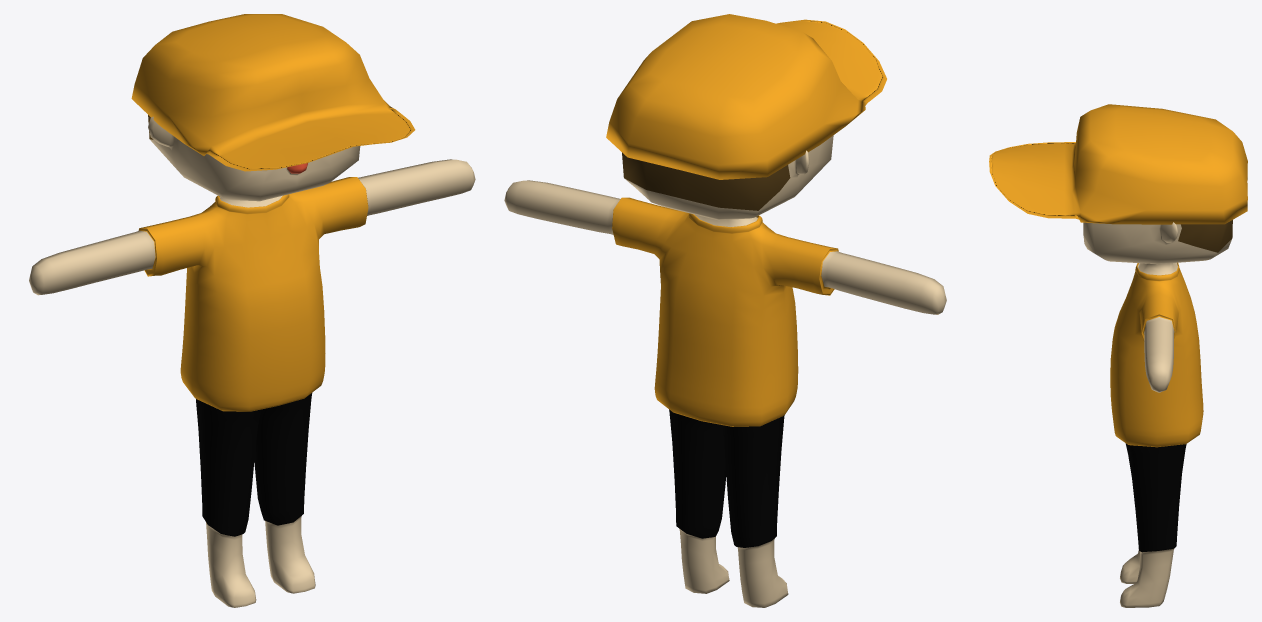
The model's file is PLAYER P2.fbx.
3 renders of one model, left to right at view 1: azimuth 30°, elevation 25°; view 2: azimuth 150°, elevation 25°; view 3: azimuth 270°, elevation 25°, orthographic. The views are drawn at different scales.
Visible parts, largest first — view 1: pCube9; view 2: pCube9; view 3: pCube9.
Part boxes in pixels (x1,y1,x2,y2): pCube9: (29, 14, 475, 607); pCube9: (504, 14, 946, 607); pCube9: (989, 104, 1247, 607).
Bounding box in the file's own units: 221 × 277 × 133.
